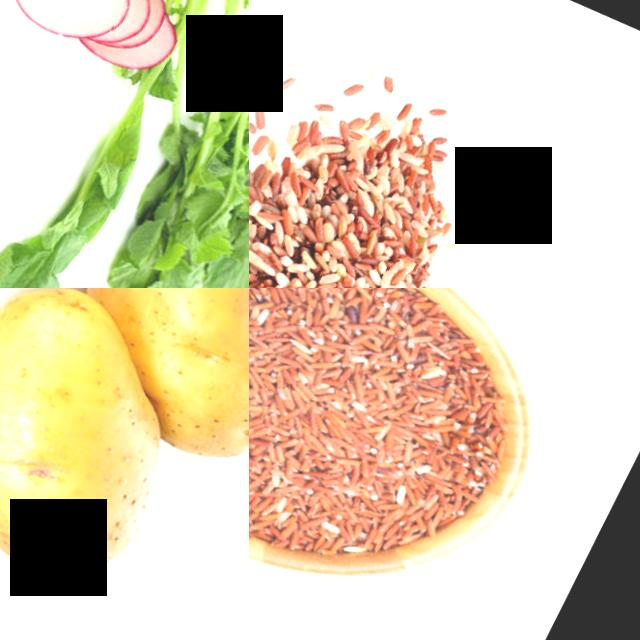potato: (0, 288, 235, 632), (34, 288, 249, 406)
radishes: (25, 0, 249, 83)
red rice: (249, 288, 538, 633), (249, 34, 498, 288)
